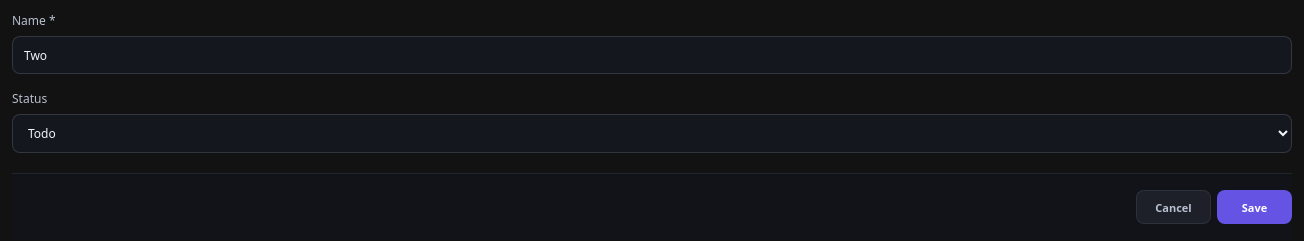
the status of a task and its subtasks › from the subtask dialog › offers to complete the task when a status set there finishes the last subtask
Select "Skipped" in the dropdown at (652, 134), box [12, 114, 1292, 153]
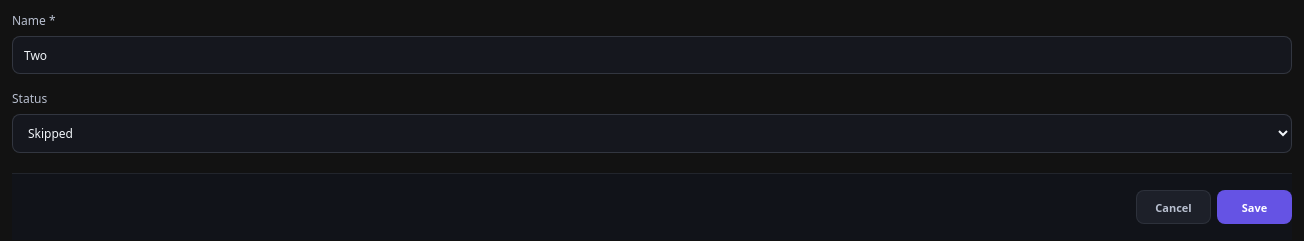
Click the button with test id "subtask-save" at (1254, 207), box [1217, 190, 1292, 224]
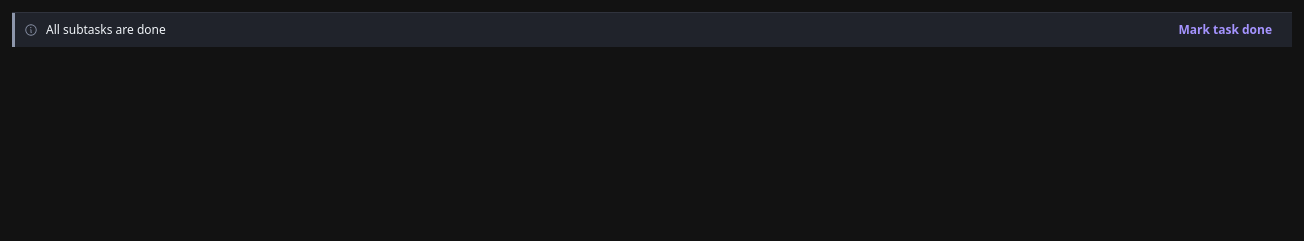
Now the element with test id "feedback-strip" shows "All subtasks are done", box [46, 21, 166, 38]
